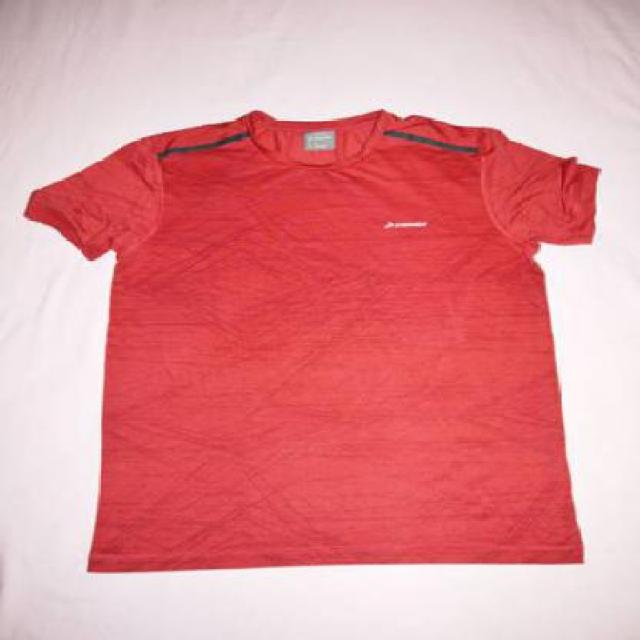shirt: (23, 103, 620, 572)
